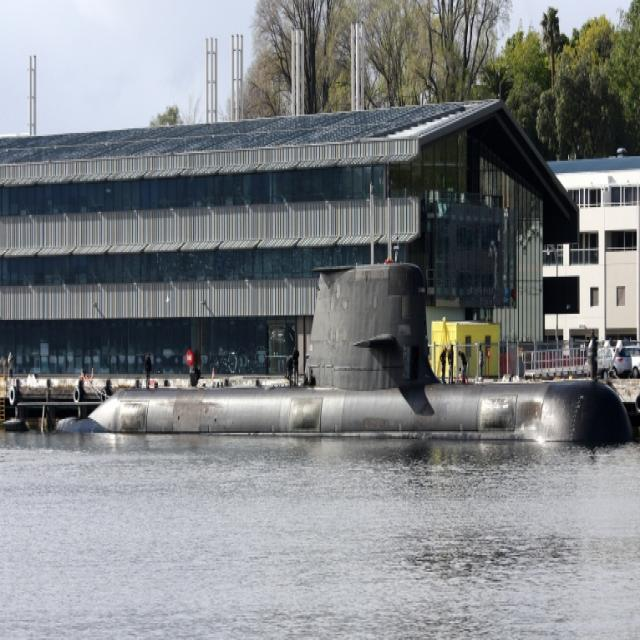submarine: (60, 263, 638, 450)
